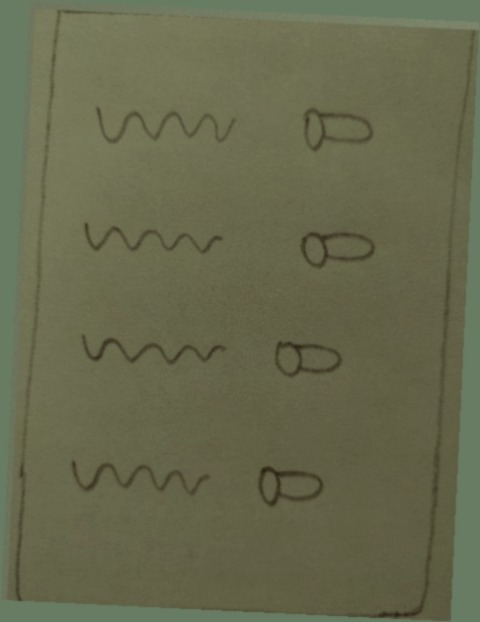switch: (291, 101, 387, 161), (289, 218, 384, 278), (263, 330, 358, 389), (251, 456, 346, 515)
text: (77, 205, 234, 269), (75, 319, 233, 382), (61, 442, 219, 505), (86, 94, 243, 157)
